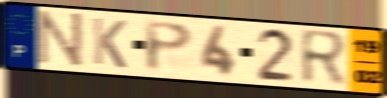2: (256, 26, 295, 85)
4: (199, 24, 238, 79)
K: (91, 16, 129, 71)
N: (35, 9, 86, 71)
P: (142, 19, 196, 74)
R: (299, 27, 351, 89)
